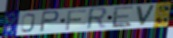0: (20, 13, 37, 33)
E: (111, 5, 135, 29)
F: (64, 9, 88, 31)
P: (38, 10, 61, 33)
R: (86, 7, 110, 31)
V: (134, 5, 156, 27)
